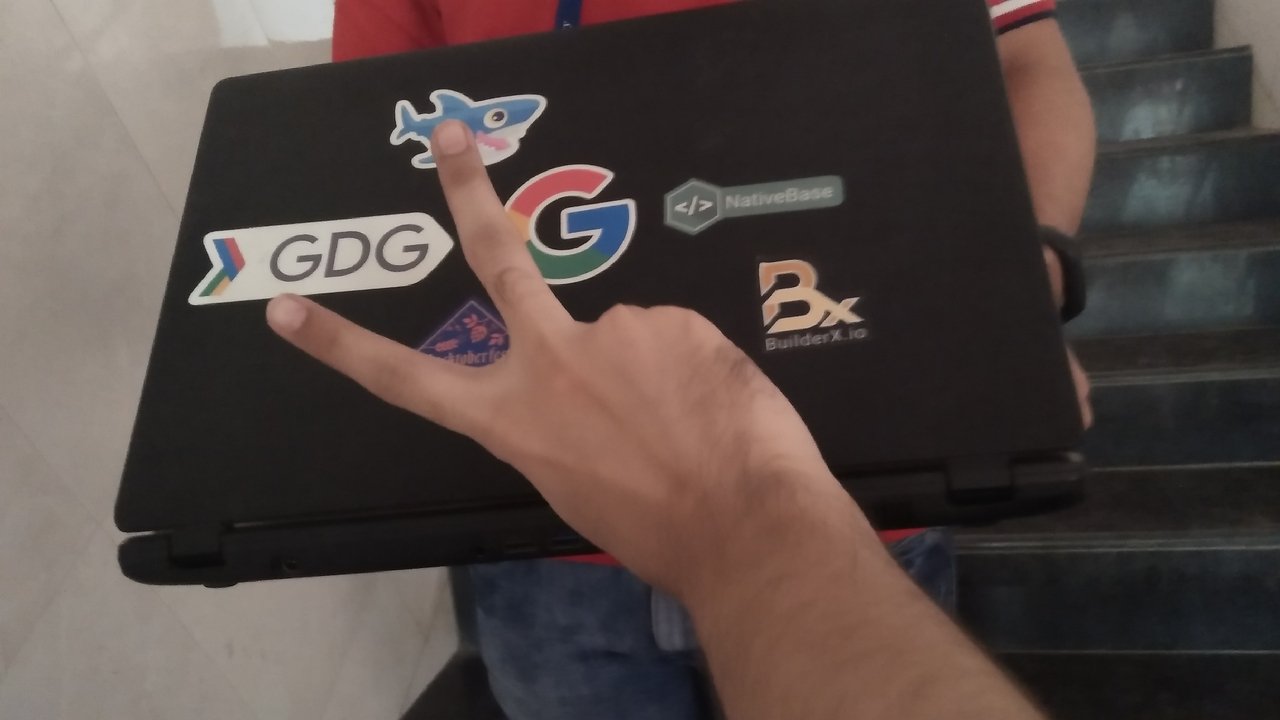fingertip: (414, 112, 488, 174), (250, 286, 320, 344)
